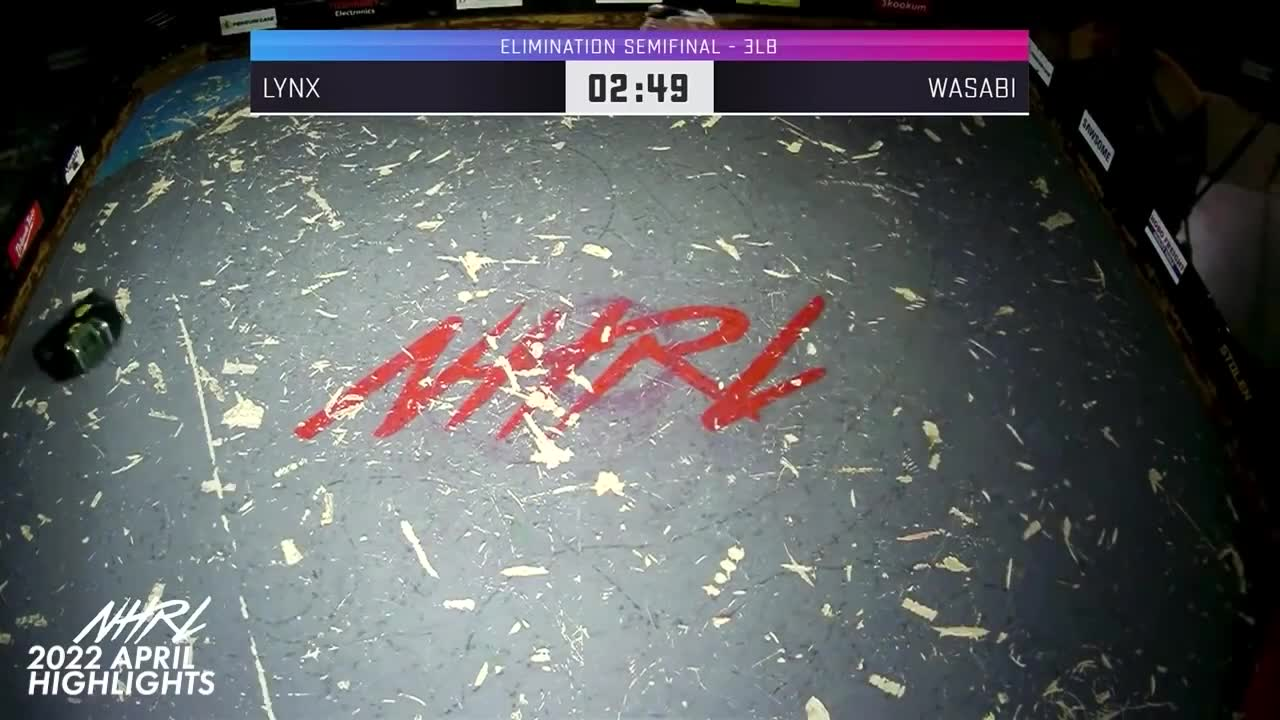combatbot: (43, 294, 122, 376)
